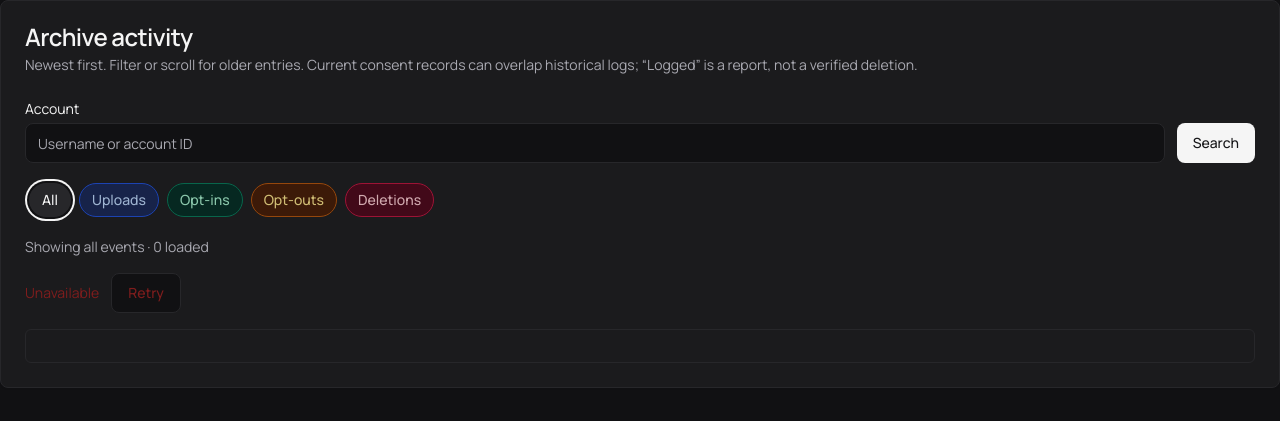
Scenario: initial read failure is retryable and not labelled as empty history
Expected: the text "No matching activity records." is not shown
Click the button "Retry" at (146, 293), box x1=111 y1=273 x2=181 y2=313
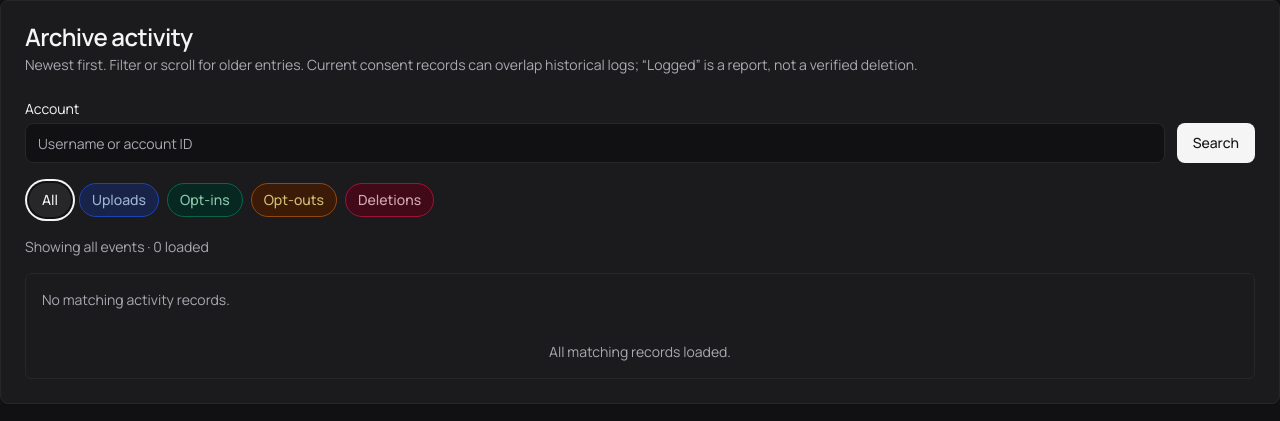
Expected: the text "No matching activity records." is shown, x1=42 y1=290 x2=230 y2=309
